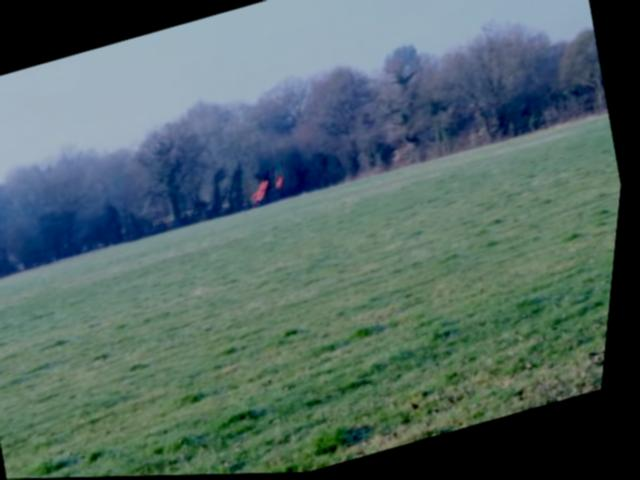uav: (247, 170, 295, 208)
